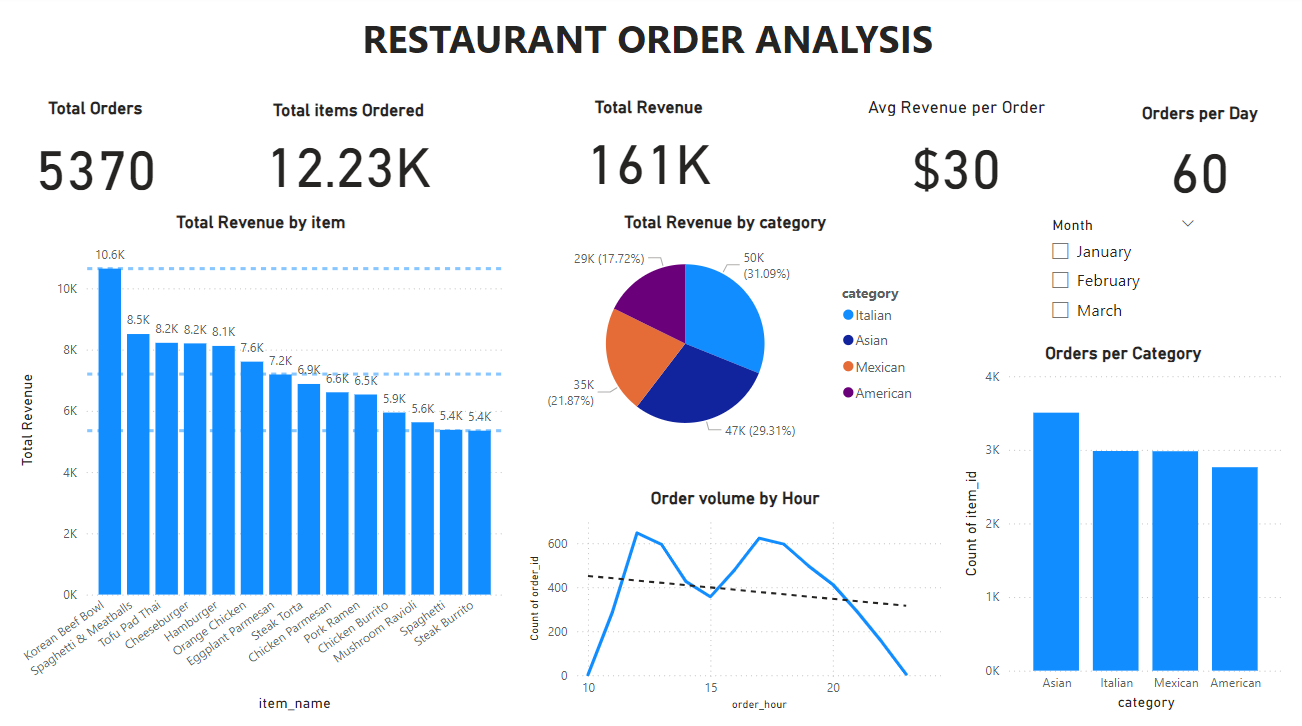

The page's visual inventory and layout, read from the dashboard file:
{"tool":"powerbi","page":{"name":"Page 1","canvas":[1280,720],"ordinal":0},"visuals":[{"type":"textbox","box":[279.9,12.3,719,61.7],"z":0},{"type":"clusteredColumnChart","title":"Orders per Category","fields":{"Category":["menu_items.category"],"Y":["CountNonNull(order_details.item_id)"]},"box":[942.7,340.3,323.8,365],"z":1000},{"type":"card","title":"Total Revenue","fields":{"Values":["order_details.Total Revenue"]},"box":[546.1,98.8,188,100.2],"z":2000},{"type":"pieChart","fields":{"Category":["menu_items.category"],"Y":["order_details.Total Revenue"]},"box":[518.7,211.3,393.8,240.1],"z":3000},{"type":"card","title":"Avg Revenue per Order","fields":{"Values":["order_details.Avg Revenue per Order"]},"box":[845.3,98.8,193.5,111.1],"z":4000},{"type":"card","title":"Total Orders","fields":{"Values":["order_details.Total Orders"]},"box":[19.2,100.2,159.2,111.1],"z":5000},{"type":"card","title":"Orders per Day","fields":{"Values":["order_details.Orders per Day"]},"box":[1093.7,105.7,172.9,105.7],"z":6000},{"type":"clusteredColumnChart","title":"Total Revenue by item","fields":{"Y":["order_details.Total Revenue"],"Category":["menu_items.item_name"]},"box":[19.2,211.3,483,494],"z":7000},{"type":"slicer","fields":{"Values":["order_details.order_date.Variation.Date Hierarchy.Month"]},"box":[1022.3,211.3,164.7,129],"z":8000},{"type":"lineChart","title":"Order volume by Hour","fields":{"Y":["Count(order_details.order_id)"],"Category":["order_details.order_hour"]},"box":[518.7,481.6,413,223.7],"z":9000},{"type":"card","title":"Total items Ordered","fields":{"Values":["Count(order_details.order_details_id)"]},"box":[227.8,102.9,238.8,100.2],"z":10000}]}

Visuals, with their boxes in screenshot pixels (x1, y1, x2, y2), scaled from the page's 1280x720 canvas onto the 1302x726 screenshot:
textbox: {"x1": 285, "y1": 12, "x2": 1016, "y2": 75}
"Orders per Category" clusteredColumnChart: {"x1": 959, "y1": 343, "x2": 1288, "y2": 711}
"Total Revenue" card: {"x1": 555, "y1": 100, "x2": 747, "y2": 201}
pieChart - menu_items.category x order_details.Total Revenue: {"x1": 528, "y1": 213, "x2": 928, "y2": 455}
"Avg Revenue per Order" card: {"x1": 860, "y1": 100, "x2": 1057, "y2": 212}
"Total Orders" card: {"x1": 20, "y1": 101, "x2": 181, "y2": 213}
"Orders per Day" card: {"x1": 1112, "y1": 107, "x2": 1288, "y2": 213}
"Total Revenue by item" clusteredColumnChart: {"x1": 20, "y1": 213, "x2": 511, "y2": 711}
slicer - order_details.order_date.Variation.Date Hierarchy.Month: {"x1": 1040, "y1": 213, "x2": 1207, "y2": 343}
"Order volume by Hour" lineChart: {"x1": 528, "y1": 486, "x2": 948, "y2": 711}
"Total items Ordered" card: {"x1": 232, "y1": 104, "x2": 475, "y2": 205}
